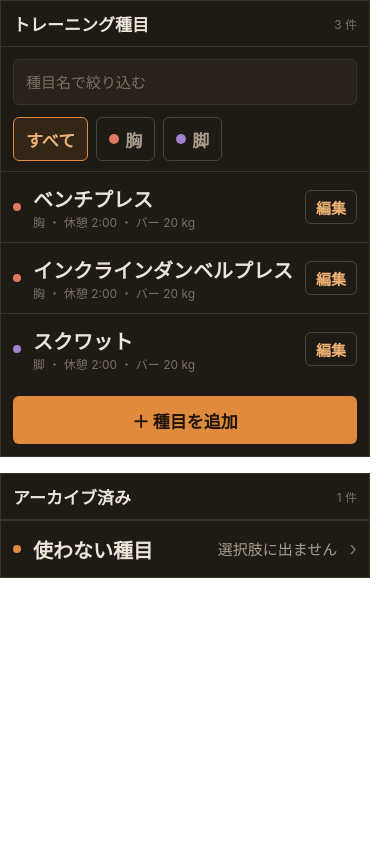
種目の追加 › 登録したらフォームを畳む
Click the text "＋ 種目を追加" at (185, 420), box [132,408,238,432]
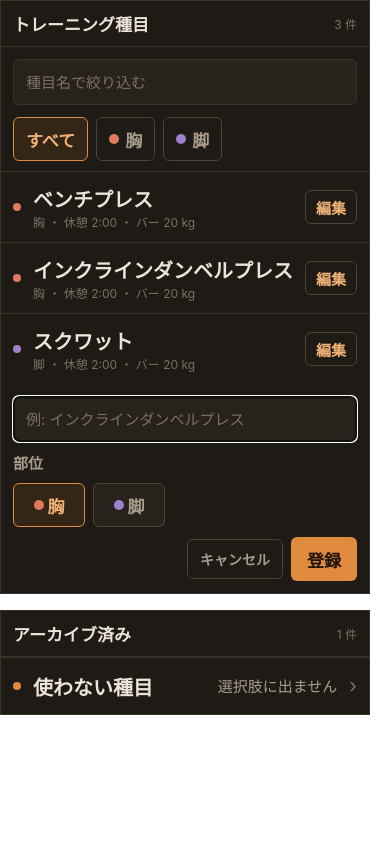
Click the text "登録" at (324, 559), box [307,546,341,572]
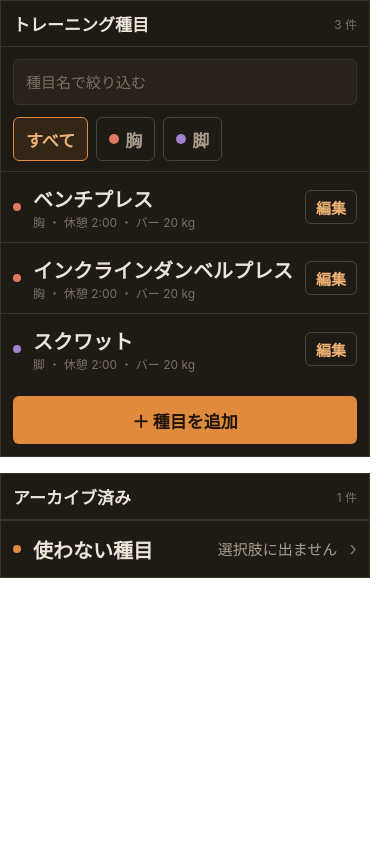
Now the text "＋ 種目を追加" is shown, box [132,408,238,432]
